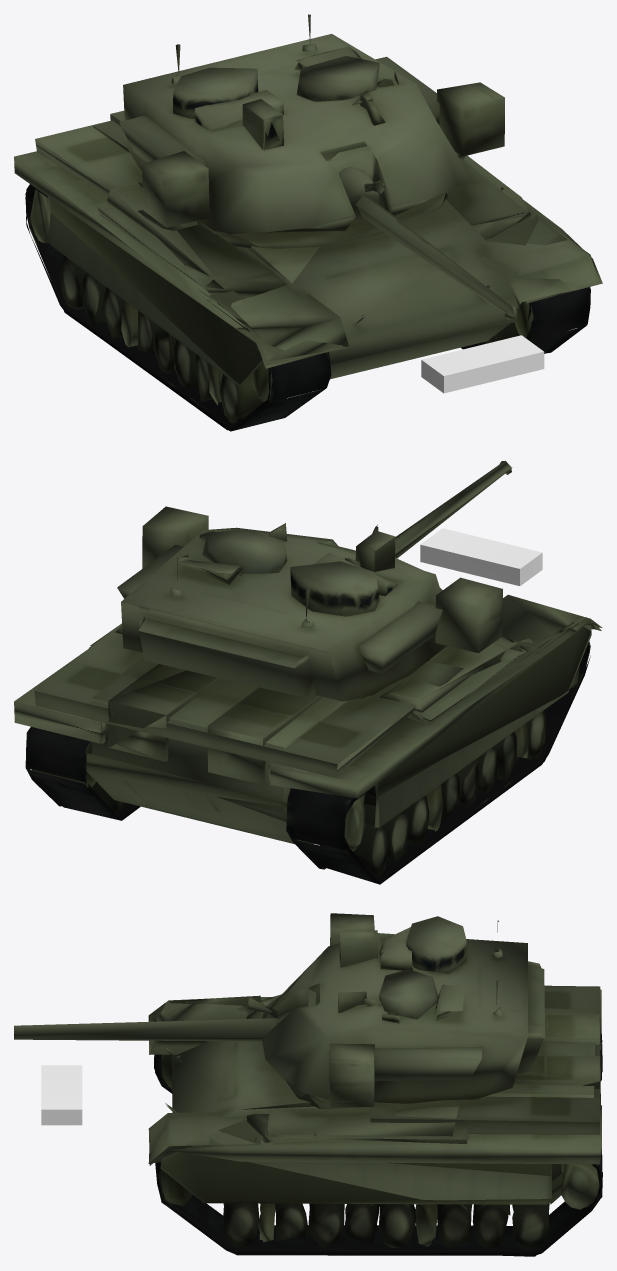
File: us-abrams.glb
3 views of the same model, one above another, from view 1: azimuth 30°, elevation 25°; view 2: azimuth 150°, elevation 25°; view 3: azimuth 270°, elevation 25° (orthographic). The views are drawn at different scales.
Visible parts, largest first — view 1: us-abrams, turret; view 2: us-abrams, turret; view 3: us-abrams, turret.
Boxes of the visible parts, <box> form: us-abrams: <box>14,114,602,431</box>; turret: <box>35,14,517,320</box>; us-abrams: <box>14,528,601,884</box>; turret: <box>34,460,516,764</box>; us-abrams: <box>41,989,602,1256</box>; turret: <box>14,913,600,1131</box>.
Size of the model in its own units: 0.688 by 0.495 by 1.12.
Materials: 2 (1 with a texture image).
